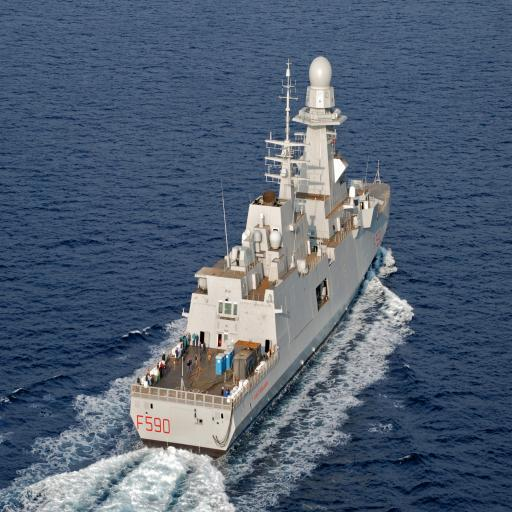Fragata: (195, 41, 319, 471)
